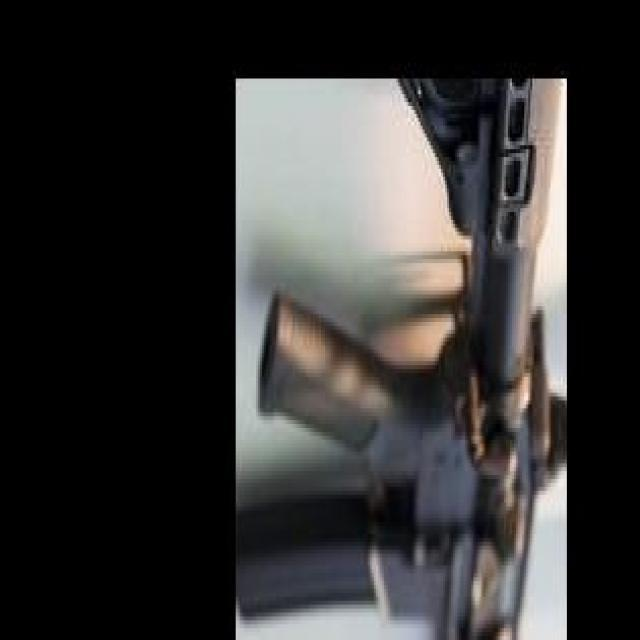weapon: (238, 79, 567, 640)
